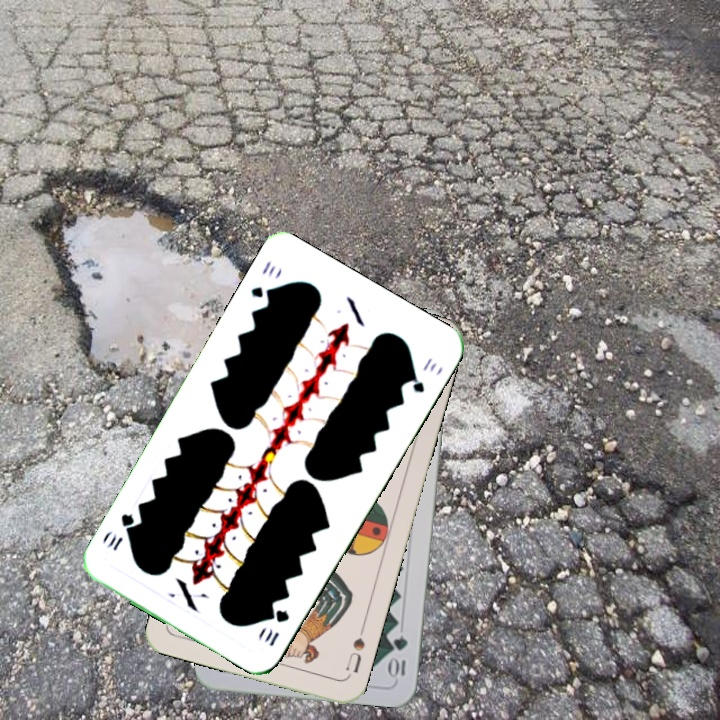G10: (246, 256, 279, 302), (261, 605, 292, 649), (387, 631, 410, 682)
SU: (342, 622, 368, 676)
